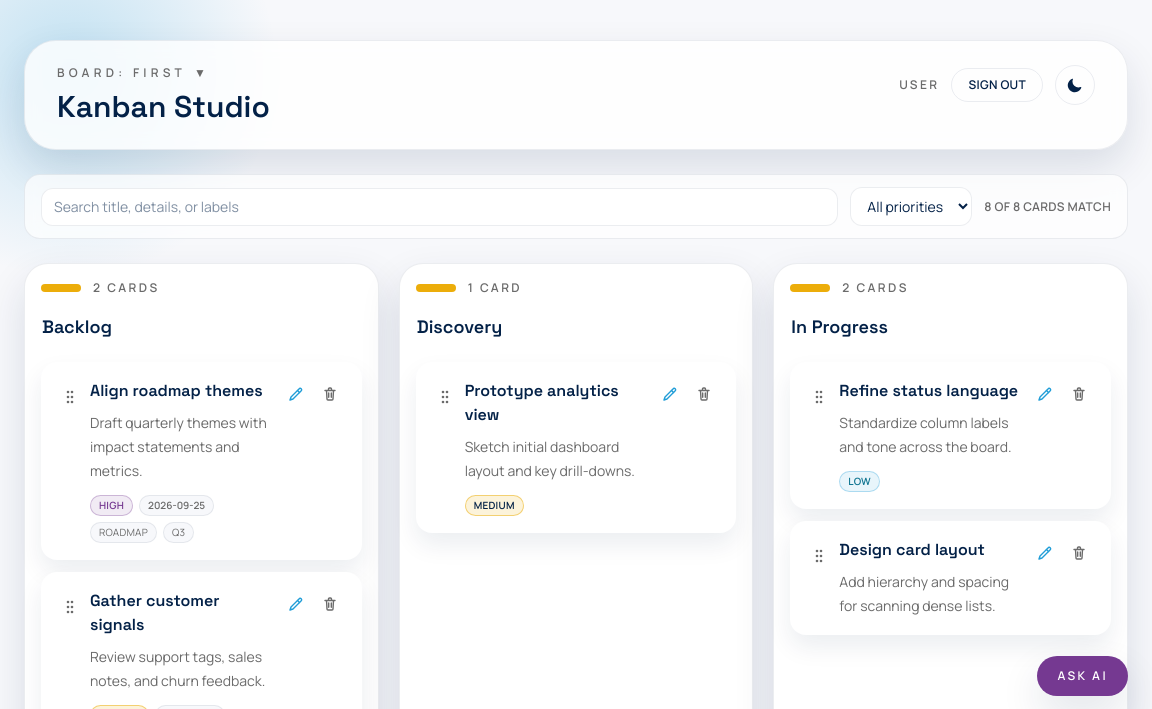
Test: Workspace › switches to another board
The image size is (1152, 709).
Step 1. Click the button with test id "board-switcher" → (134, 73), box [57, 65, 210, 81]
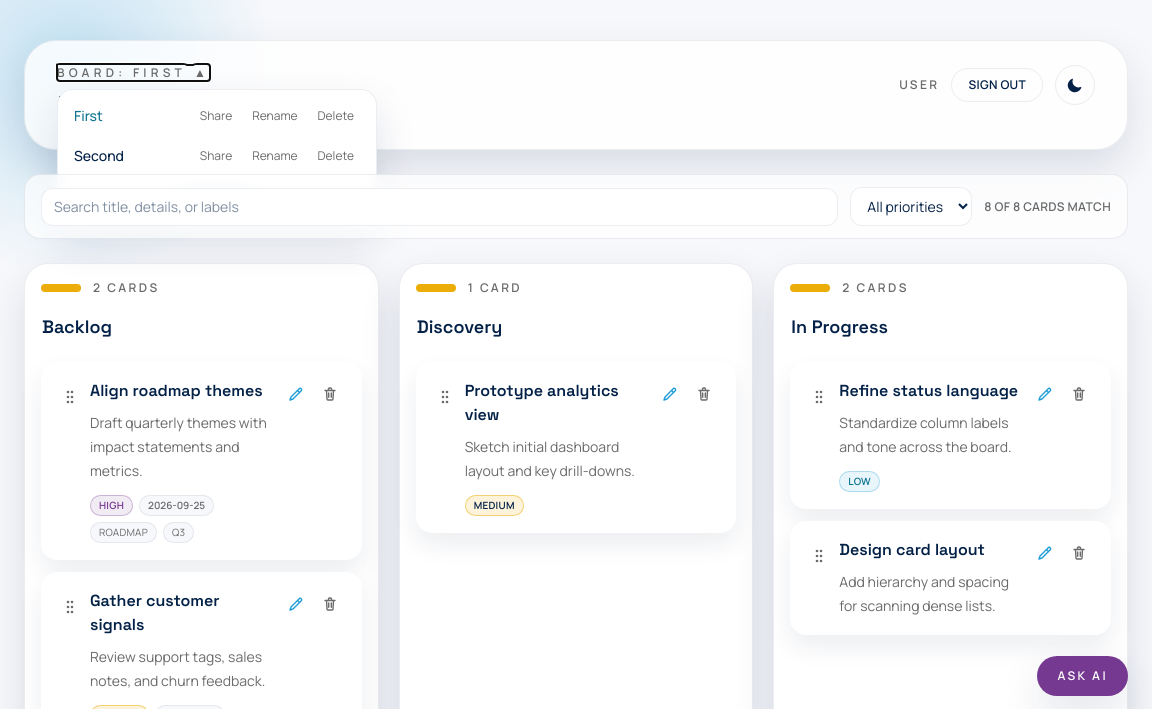
Step 2. Click the button "Second" → (130, 156), box [74, 146, 186, 166]
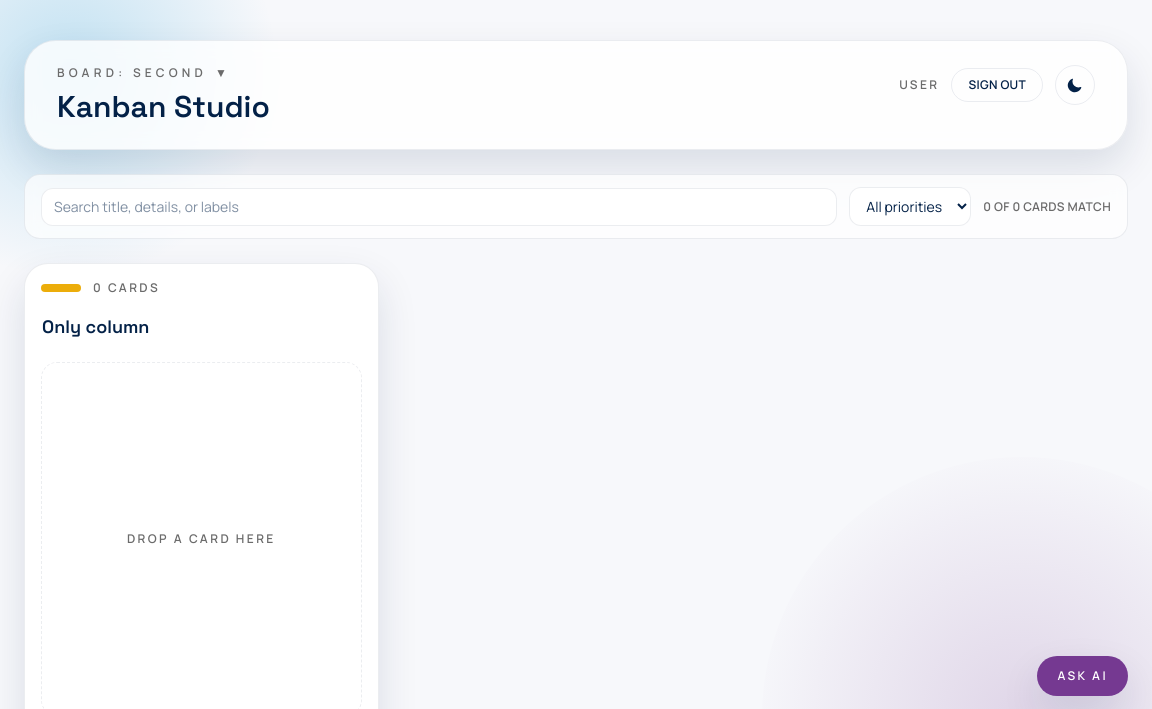
Expected: the button with test id "board-switcher" shows "Second", [57, 65, 231, 81]
